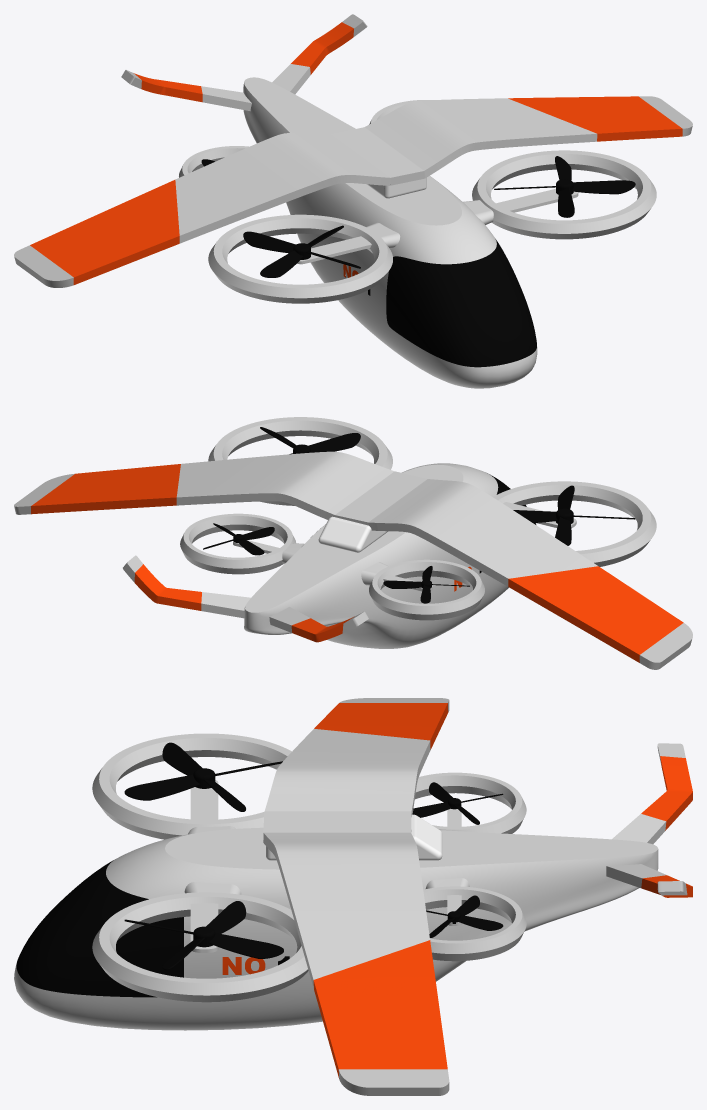
The picture shows the model from 3 angles, top to bottom: view 1: azimuth 30°, elevation 25°; view 2: azimuth 150°, elevation 25°; view 3: azimuth 270°, elevation 25°; orthographic projection. The views are drawn at different scales.
Parts seen in each view (by area): view 1: 기본값; view 2: 기본값; view 3: 기본값.
Boxes of the visible parts, x1,y1,x2,y2 form: 기본값: (14,14,692,388); 기본값: (14,417,692,669); 기본값: (14,698,692,1095).
Bounding box in the file's own units: 5.09 × 1.26 × 3.75.
